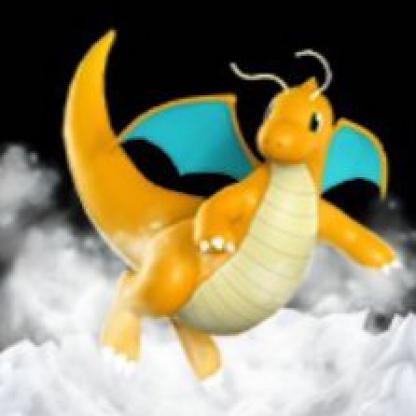Dragonite: (38, 38, 415, 415)
